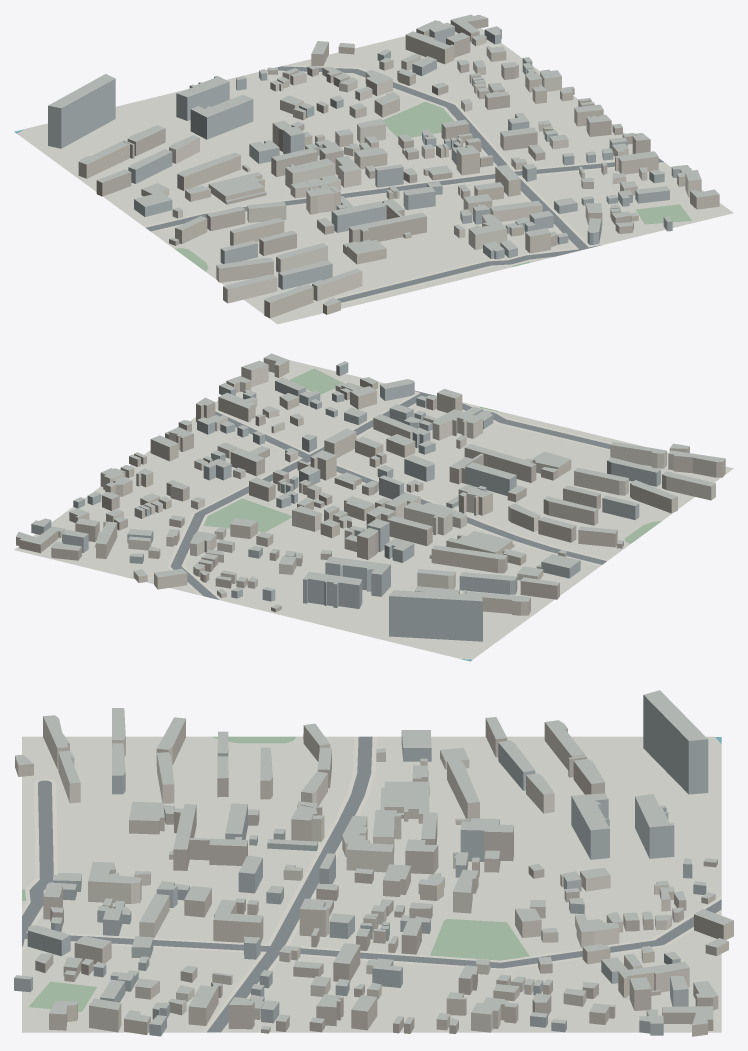
3 renders of one model, top to bottom at view 1: azimuth 30°, elevation 25°; view 2: azimuth 150°, elevation 25°; view 3: azimuth 270°, elevation 25°, orthographic. The views are drawn at different scales.
Visible parts, largest first — view 1: city; view 2: city; view 3: city.
Boxes of the visible parts, x1,y1,x2,y2 form: city: (14, 14, 733, 324); city: (14, 353, 733, 661); city: (14, 690, 733, 1036).
Size of the model in its own units: 525 by 42.48 by 514.
